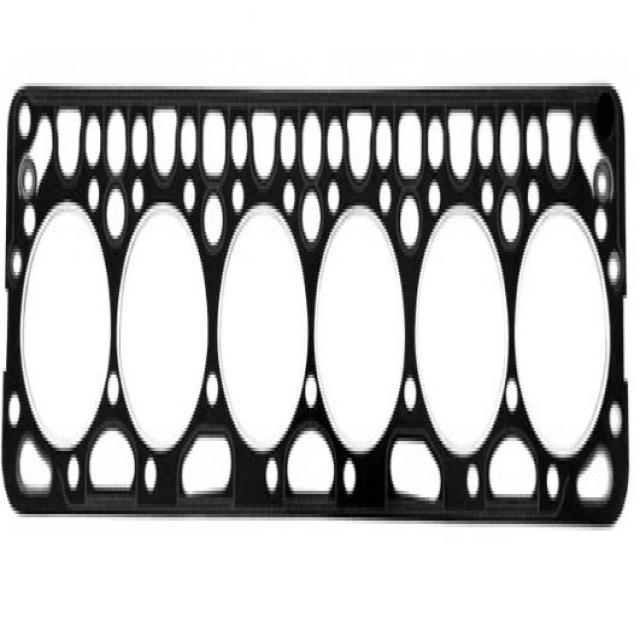missing hole: (591, 76, 634, 156)
